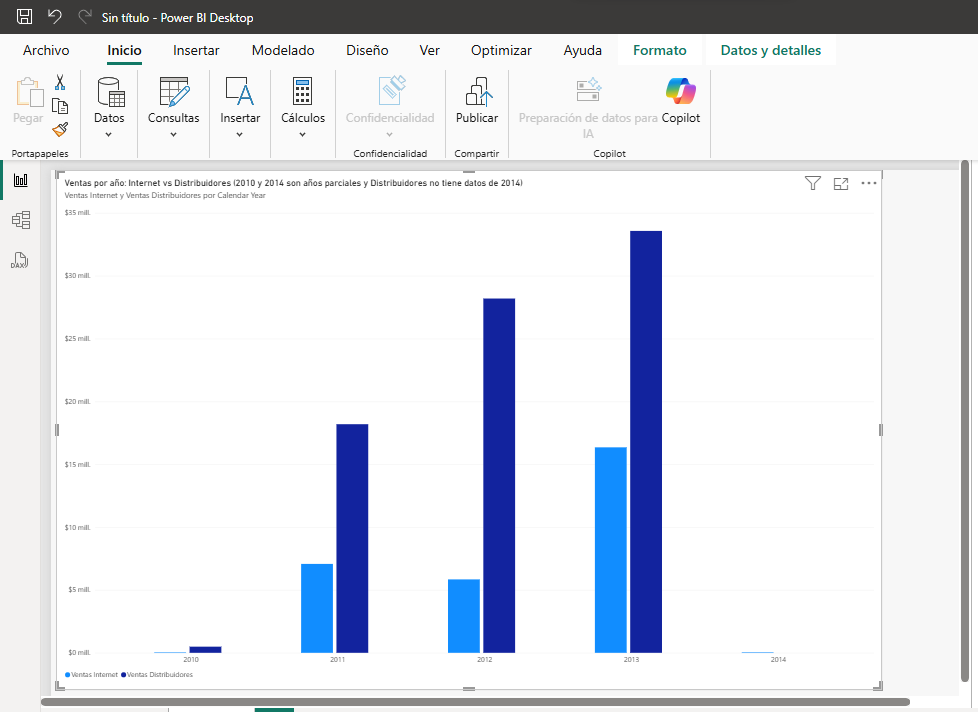

The page's visual inventory and layout, read from the dashboard file:
{"tool":"powerbi","page":{"name":"Página 1","canvas":[1920,1080],"ordinal":0},"visuals":[{"type":"clusteredColumnChart","title":"Ventas por año: Internet vs Distribuidores (2010 y 2014 son años parciales y Distribuidores no tiene datos de 2014)","fields":{"Category":["Fecha de Pedido.Calendar Year"],"Y":["Fact Internet Sales.Sales Amount","Fact Reseller Sales.Sales Amount - Fact Reseller Sales"]},"box":[10.1,0,1652.9,1040.6],"z":0}]}

Visuals, with their boxes on the page's 1920x1080 design canvas (x1, y1, x2, y2). These are canvas units, not pixel positions in the 978x712 screenshot, which may show the page scaled, cropped or inside an application window:
"Ventas por año: Internet vs Distribuidores (2010 y 2014 son años parciales y Distribuidores no tiene datos de 2014)" clusteredColumnChart: detection(10, 0, 1663, 1041)
